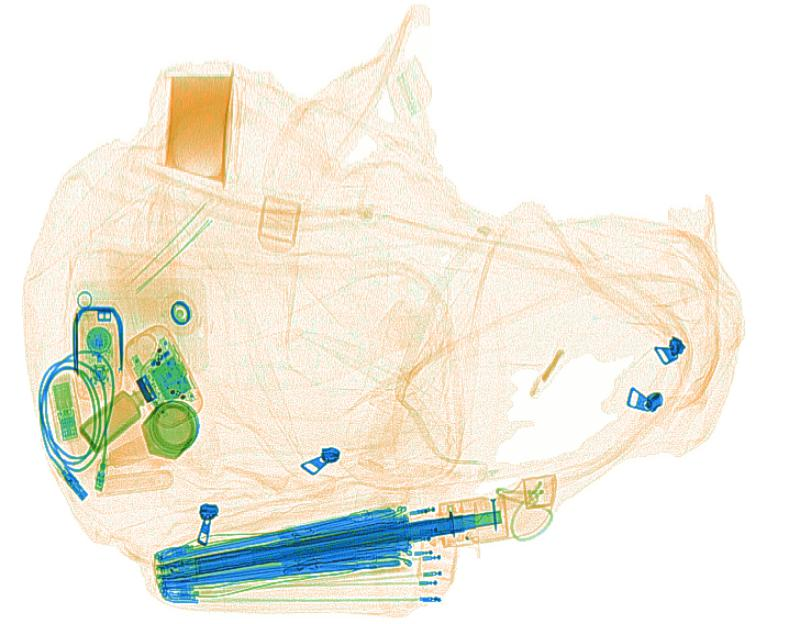USBFlashDisk: (50, 379, 78, 442)
